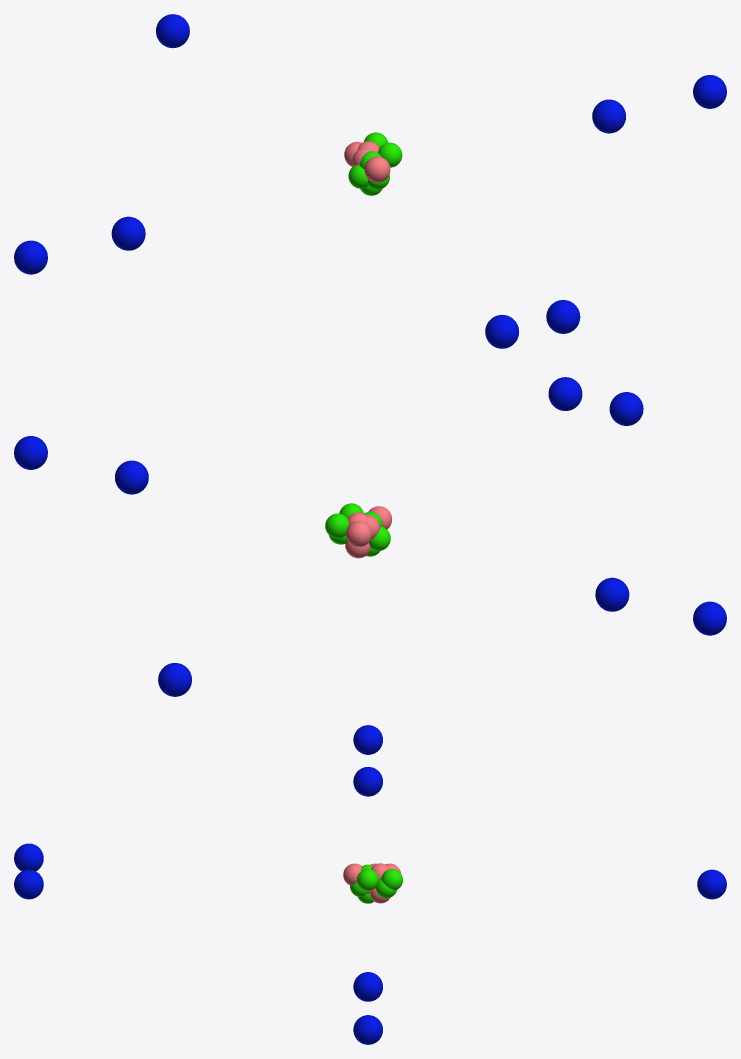
Rendered from nitrogen.glb.
3 renders of one model, top to bottom at view 1: azimuth 30°, elevation 25°; view 2: azimuth 150°, elevation 25°; view 3: azimuth 270°, elevation 25°, orthographic. The views are drawn at different scales.
Parts seen in each view (by area): view 1: Sphere.007, Sphere.011, Sphere.014, Sphere.008, Sphere.012, Sphere.019, Sphere.006, Sphere.010; view 2: Sphere.007, Sphere.011, Sphere.014, Sphere.006, Sphere.008, Sphere.012, Sphere.019, Sphere.015; view 3: Sphere.012, Sphere.014, Sphere.006, Sphere.008, Sphere.011, Sphere.007, Sphere.019.
Part boxes in pixels (x1,y1,x2,y2): Sphere.007: (111, 216, 145, 250); Sphere.011: (156, 14, 189, 48); Sphere.014: (693, 75, 726, 108); Sphere.008: (546, 300, 580, 333); Sphere.012: (14, 240, 47, 274); Sphere.019: (485, 314, 518, 348); Sphere.006: (592, 99, 625, 133); Sphere.010: (364, 156, 390, 182); Sphere.007: (595, 577, 629, 611); Sphere.011: (158, 663, 191, 696); Sphere.014: (14, 436, 47, 469); Sphere.006: (115, 460, 148, 494); Sphere.008: (548, 377, 582, 410); Sphere.012: (693, 601, 726, 635); Sphere.019: (609, 392, 643, 425); Sphere.015: (346, 521, 372, 546); Sphere.012: (353, 725, 382, 754); Sphere.014: (353, 1015, 382, 1044); Sphere.006: (353, 972, 382, 1001); Sphere.008: (14, 869, 43, 899); Sphere.011: (697, 869, 726, 899); Sphere.007: (353, 767, 382, 796); Sphere.019: (14, 843, 43, 871).
Bounding box in the file's own units: 3.41 × 0.2134 × 3.39.
